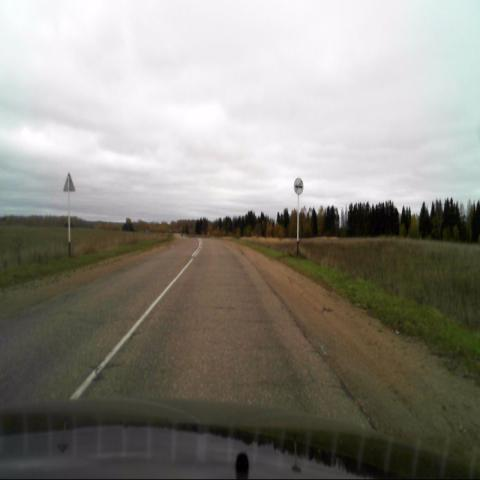3_21: (294, 177, 303, 196)
